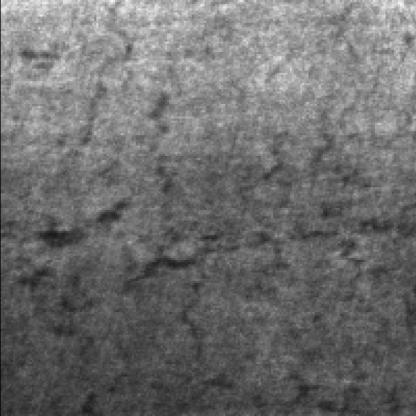crazing: (54, 14, 227, 356), (237, 102, 412, 304)
